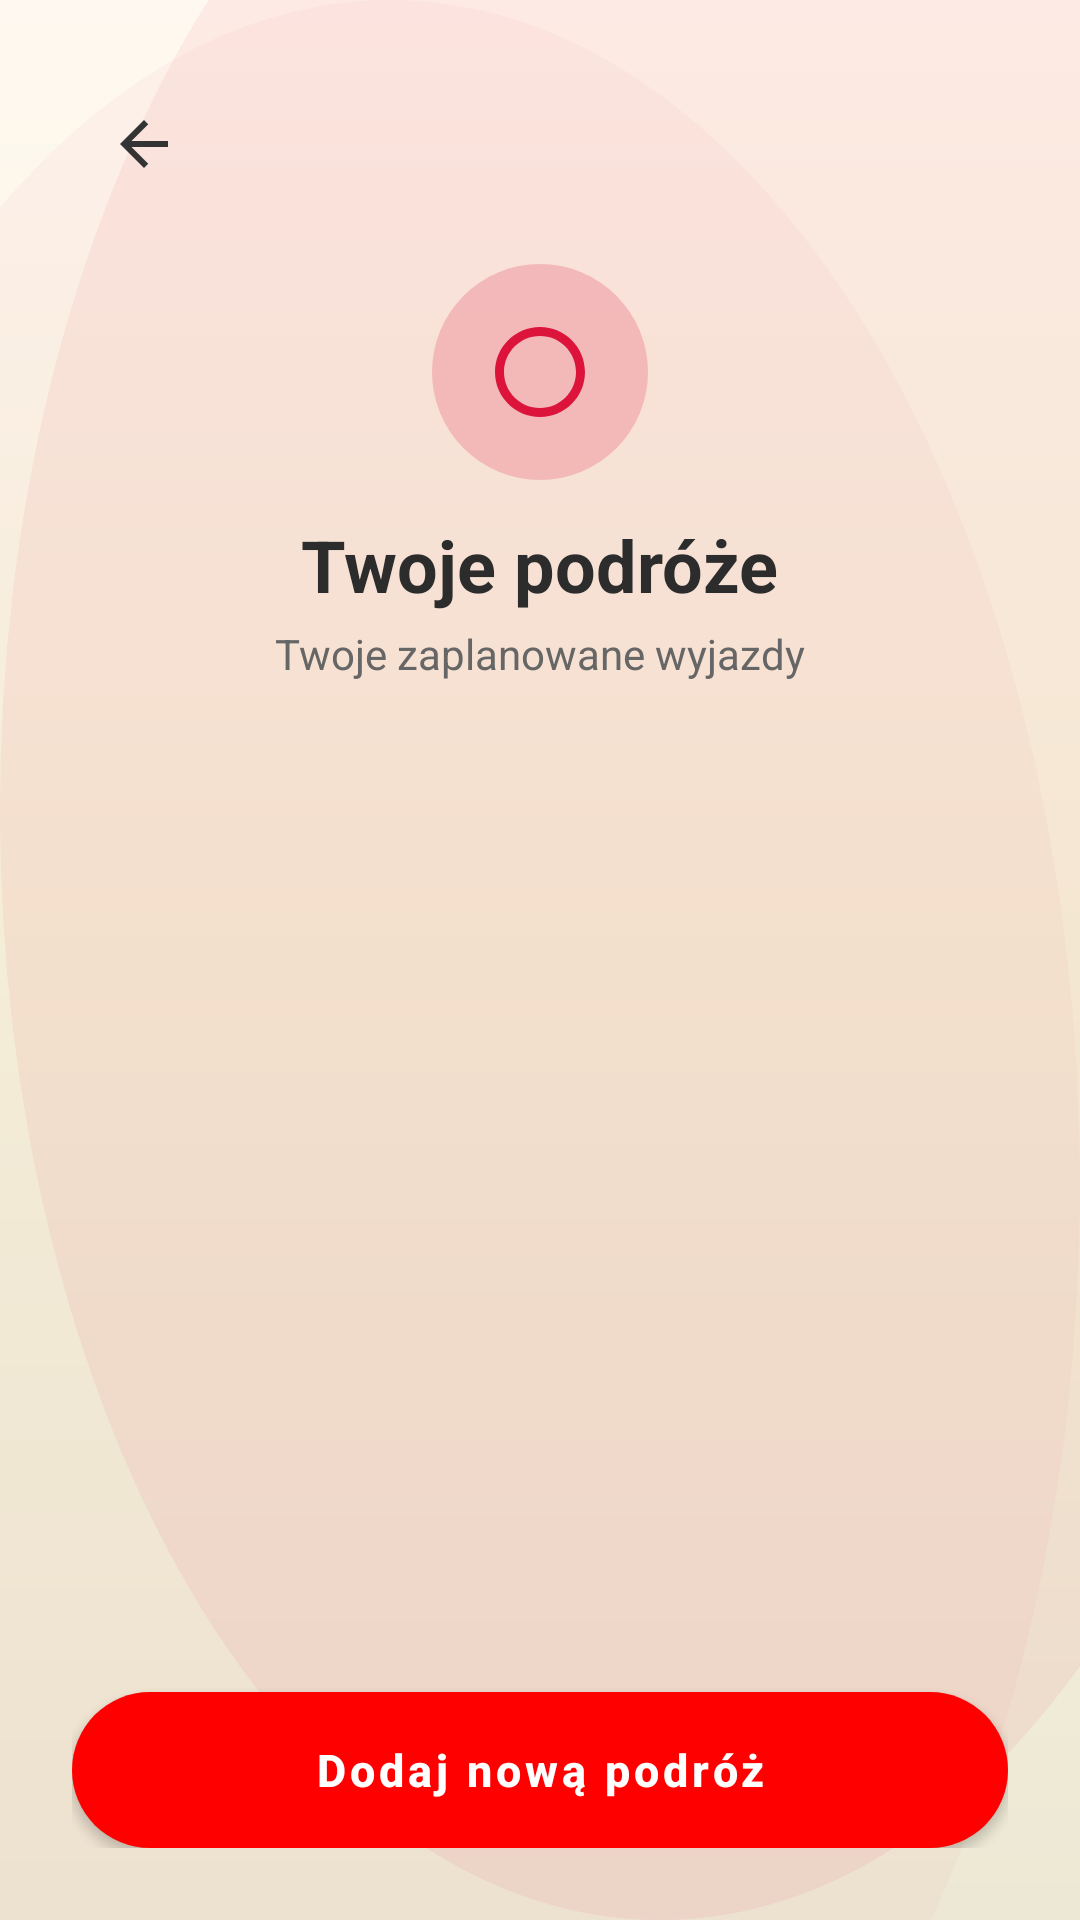

Named icons in this screenshot (1080 x 1920) and their bounding boxes, (x1, y1, x2, y2):
Wróć: (120, 120, 168, 168)
